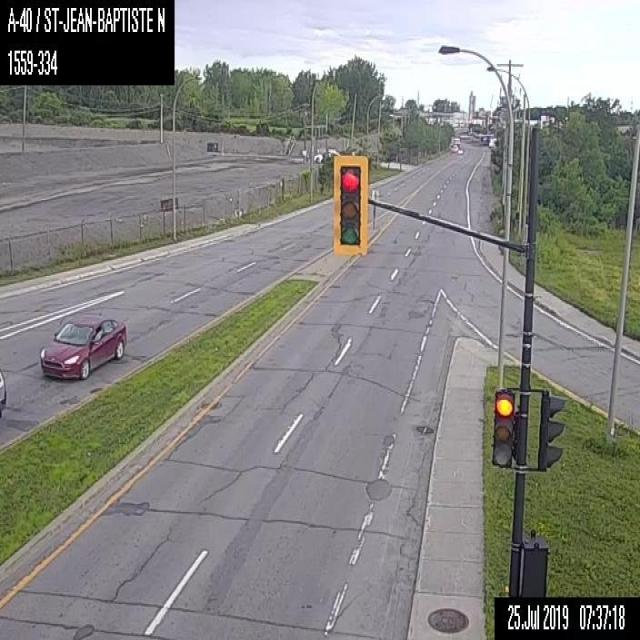vehicle: (37, 311, 128, 377), (0, 370, 5, 417)
